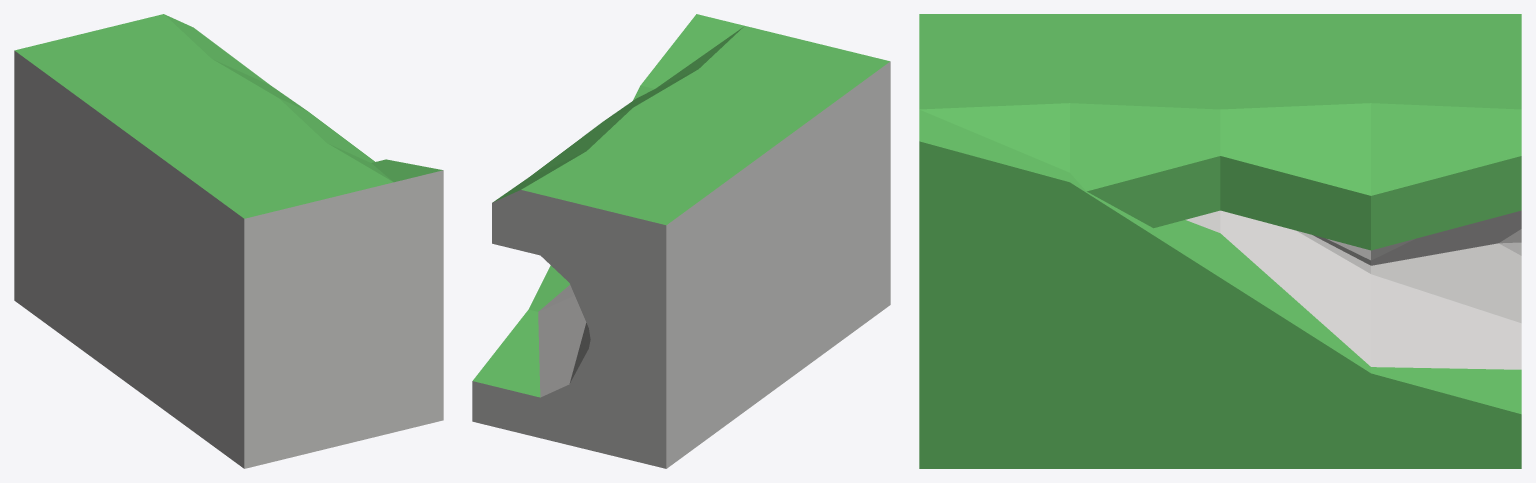
The model's file is Cliff_Base_Top_Joined_Hill_Sharp.glb.
3 renders of one model, left to right at view 1: azimuth 30°, elevation 25°; view 2: azimuth 150°, elevation 25°; view 3: azimuth 270°, elevation 25°, orthographic. The views are drawn at different scales.
Parts seen in each view (by area): view 1: object1; view 2: object1; view 3: object1.
Part boxes in pixels (<box>): object1: <box>14,14,443,468</box>; object1: <box>472,14,890,468</box>; object1: <box>919,14,1521,468</box>.
Size of the model in its own units: 1 by 1.2 by 2.
